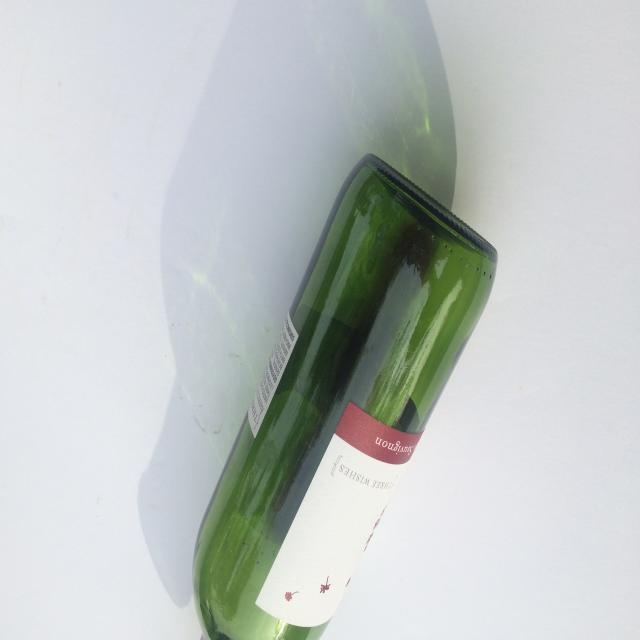glass: (191, 151, 498, 639)
